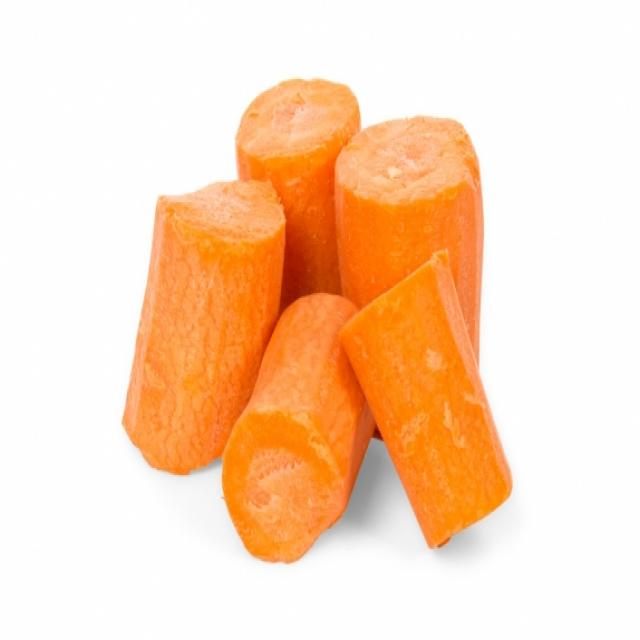carrot: (341, 251, 513, 548), (123, 182, 285, 474), (223, 295, 376, 563), (336, 116, 485, 360), (236, 77, 361, 309)
